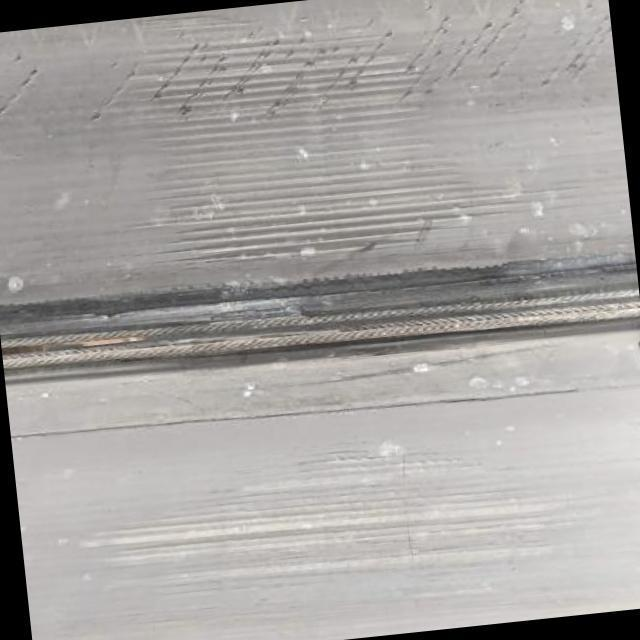Wear: (0, 258, 640, 388)
